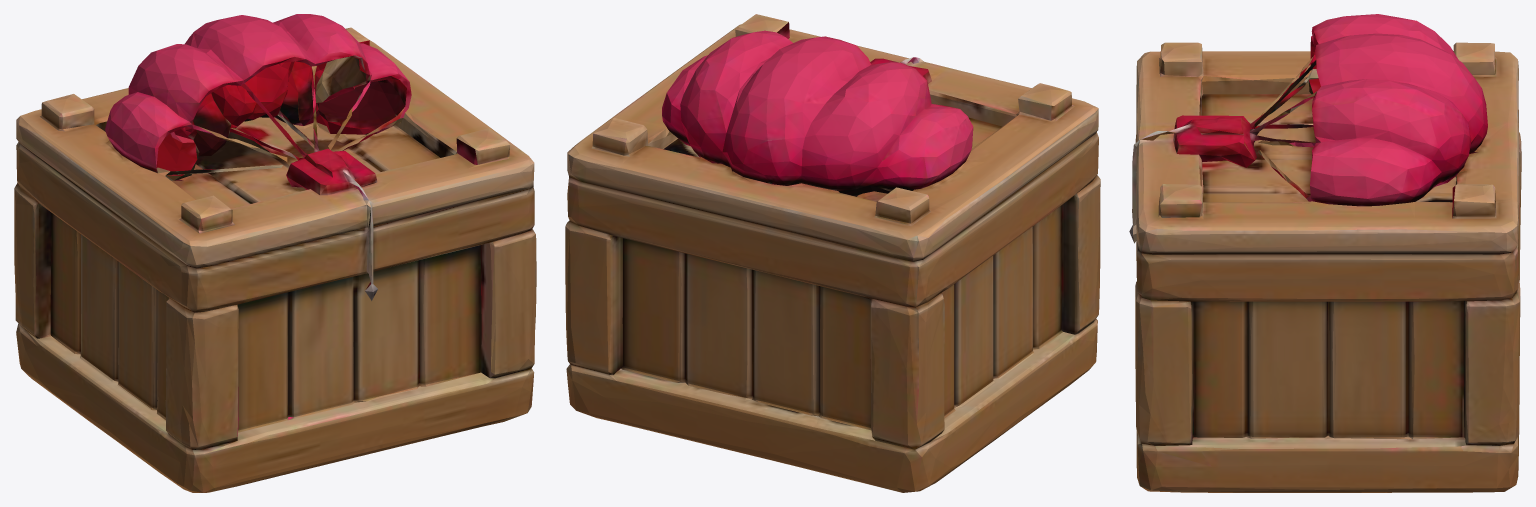
The model's file is supply_drop.glb.
3 renders of one model, left to right at view 1: azimuth 30°, elevation 25°; view 2: azimuth 150°, elevation 25°; view 3: azimuth 270°, elevation 25°, orthographic. The views are drawn at different scales.
Visible parts, largest first — view 1: tmp2cpe471c.ply; view 2: tmp2cpe471c.ply; view 3: tmp2cpe471c.ply.
Boxes of the visible parts, box(x1,y1,x2,y2) form: tmp2cpe471c.ply: box(14, 14, 536, 492); tmp2cpe471c.ply: box(565, 14, 1100, 492); tmp2cpe471c.ply: box(1129, 14, 1521, 492).
Size of the model in its own units: 1.99 by 1.89 by 1.83.
Materials: 1 (1 with a texture image).
